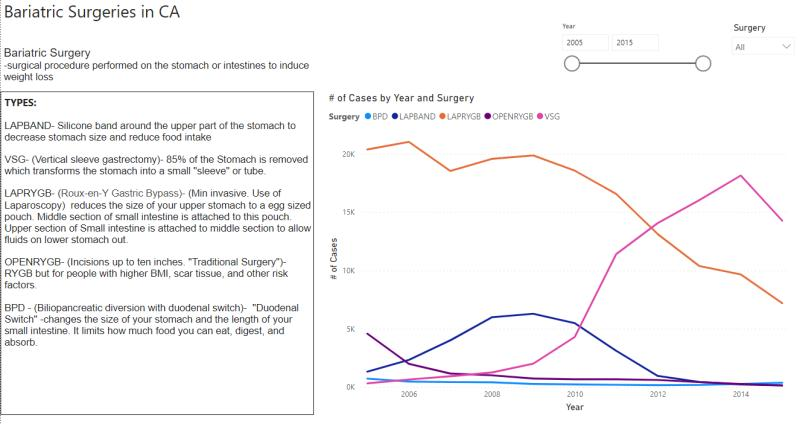

The dashboard page shown, as its layout file describes it:
{"tool":"powerbi","page":{"name":"Surgery Type and Count","canvas":[1280,720],"ordinal":1},"visuals":[{"type":"textbox","box":[0,151.7,500.9,517.4],"z":0},{"type":"lineChart","fields":{"Category":["number-of-weight-loss-surgeries-performed-in-california-hospitals-.Year","number-of-weight-loss-surgeries-performed-in-california-hospitals-.Surgery"],"Y":["Sum(number-of-weight-loss-surgeries-performed-in-california-hospitals-.# of Cases)"],"Series":["number-of-weight-loss-surgeries-performed-in-california-hospitals-.Surgery"]},"box":[519.4,151.7,748,517.4],"z":1000},{"type":"textbox","box":[0,74.8,500.5,77.2],"z":2000},{"type":"slicer","fields":{"Values":["number-of-weight-loss-surgeries-performed-in-california-hospitals-.Surgery"]},"box":[1159,36.2,120.6,61.5],"z":3000},{"type":"slicer","fields":{"Values":["number-of-weight-loss-surgeries-performed-in-california-hospitals-.Year"]},"box":[885.2,36.2,259.3,98.9],"z":4000},{"type":"textbox","box":[0,0,314.8,72.4],"z":4001}]}

Visuals, with their boxes on the page's 1280x720 design canvas (x1, y1, x2, y2). These are canvas units, not pixel positions in the 800x424 screenshot, which may show the page scaled, cropped or inside an application window:
textbox: <box>0,152,501,669</box>
lineChart - number-of-weight-loss-surgeries-performed-in-california-hospitals-.Year x number-of-weight-loss-surgeries-performed-in-california-hospitals-.Surgery: <box>519,152,1267,669</box>
textbox: <box>0,75,500,152</box>
slicer - number-of-weight-loss-surgeries-performed-in-california-hospitals-.Surgery: <box>1159,36,1280,98</box>
slicer - number-of-weight-loss-surgeries-performed-in-california-hospitals-.Year: <box>885,36,1144,135</box>
textbox: <box>0,0,315,72</box>
